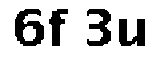3: (83, 6, 118, 53)
6: (11, 6, 46, 51)
f: (47, 3, 76, 50)
u: (116, 13, 150, 49)
